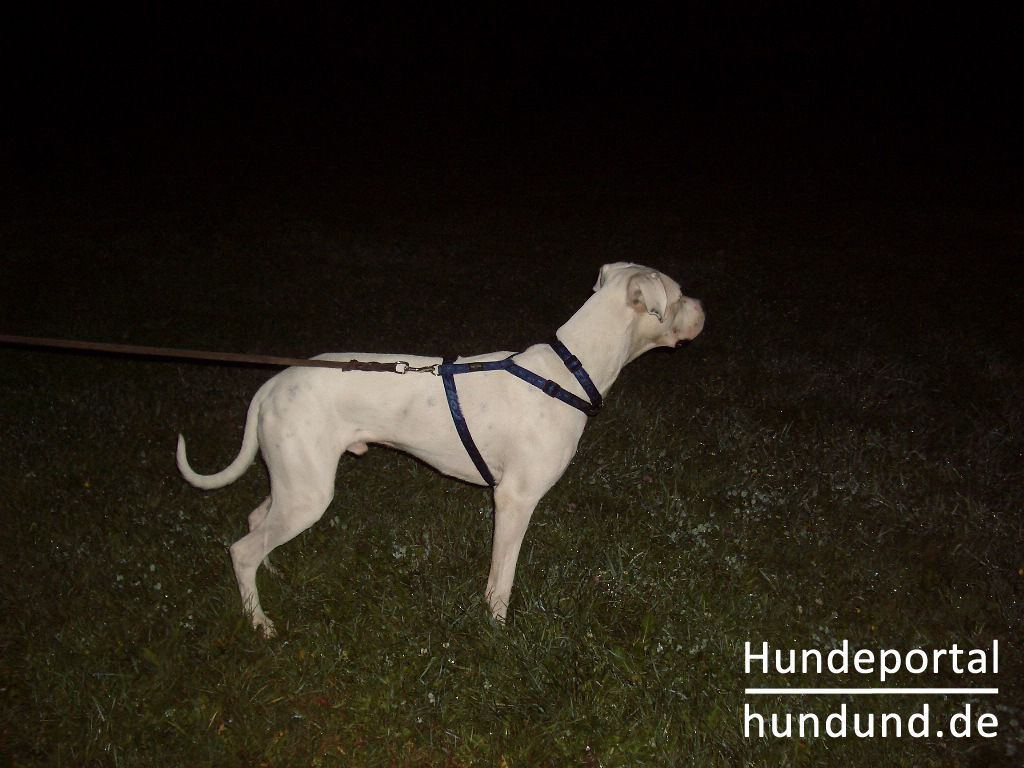dogo_argentino: (174, 261, 706, 639)
